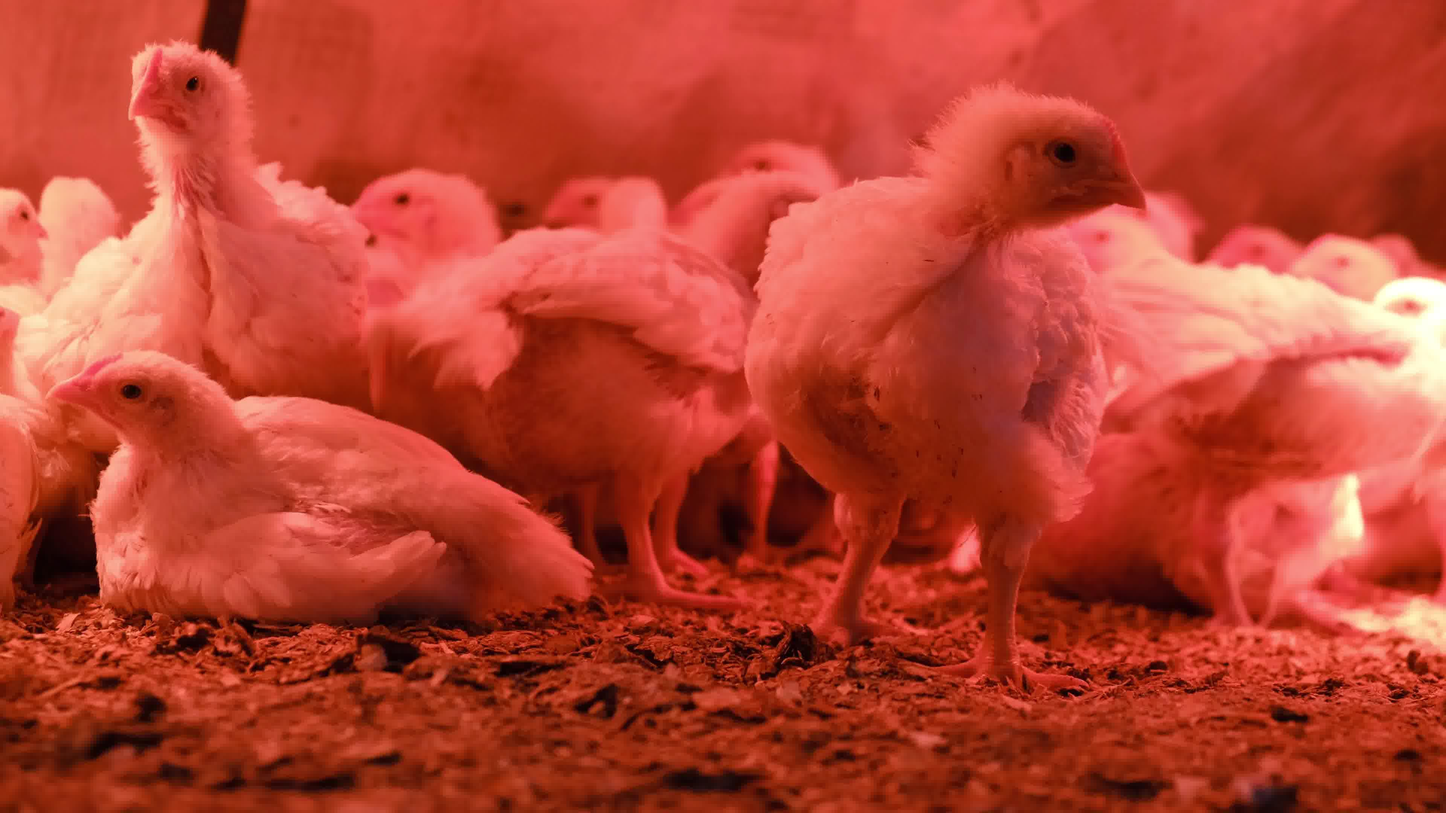AbNormal: (11, 356, 591, 634)
Normal: (740, 87, 1214, 708), (424, 171, 800, 602), (1141, 247, 1446, 606), (49, 43, 377, 371), (333, 128, 520, 284), (1295, 205, 1412, 305)
